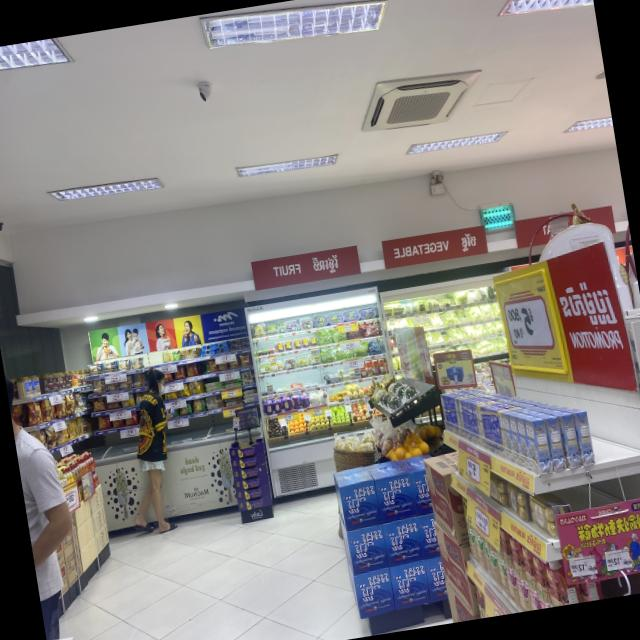1: (208, 323, 247, 336), (178, 463, 207, 477)
100: (512, 326, 524, 340)
180: (504, 305, 523, 325), (468, 459, 473, 470)
207: (607, 557, 613, 564), (571, 564, 578, 570)
3: (476, 508, 488, 528)
520: (467, 469, 473, 477)
558: (577, 563, 586, 572), (613, 556, 620, 566)
764: (518, 305, 536, 336), (472, 463, 476, 476)
783: (353, 361, 357, 366), (350, 344, 354, 347)
819: (317, 409, 320, 414)
893: (391, 549, 408, 557)
Yolov11kh: (553, 275, 623, 331), (309, 252, 342, 276), (525, 529, 543, 560), (352, 482, 377, 504), (387, 475, 411, 496), (396, 519, 420, 540), (402, 563, 427, 583), (367, 571, 391, 591), (361, 528, 384, 548), (460, 231, 479, 254), (429, 566, 448, 588), (394, 574, 412, 596), (414, 480, 432, 501), (344, 495, 362, 515), (358, 583, 376, 603), (421, 523, 438, 544), (388, 532, 405, 553), (516, 468, 531, 491), (380, 487, 397, 507), (353, 539, 369, 560), (183, 455, 201, 466), (397, 591, 416, 600), (355, 556, 373, 565), (361, 599, 379, 608), (526, 307, 535, 323), (382, 504, 400, 512), (347, 512, 365, 520), (417, 498, 432, 505), (432, 585, 447, 592), (425, 541, 438, 549), (400, 500, 412, 508), (415, 588, 427, 596), (365, 509, 378, 516), (482, 500, 489, 513), (380, 596, 391, 604), (373, 553, 385, 560), (437, 560, 443, 572), (473, 449, 480, 459), (409, 546, 419, 552), (475, 464, 477, 471), (620, 556, 622, 561), (585, 563, 587, 567)
